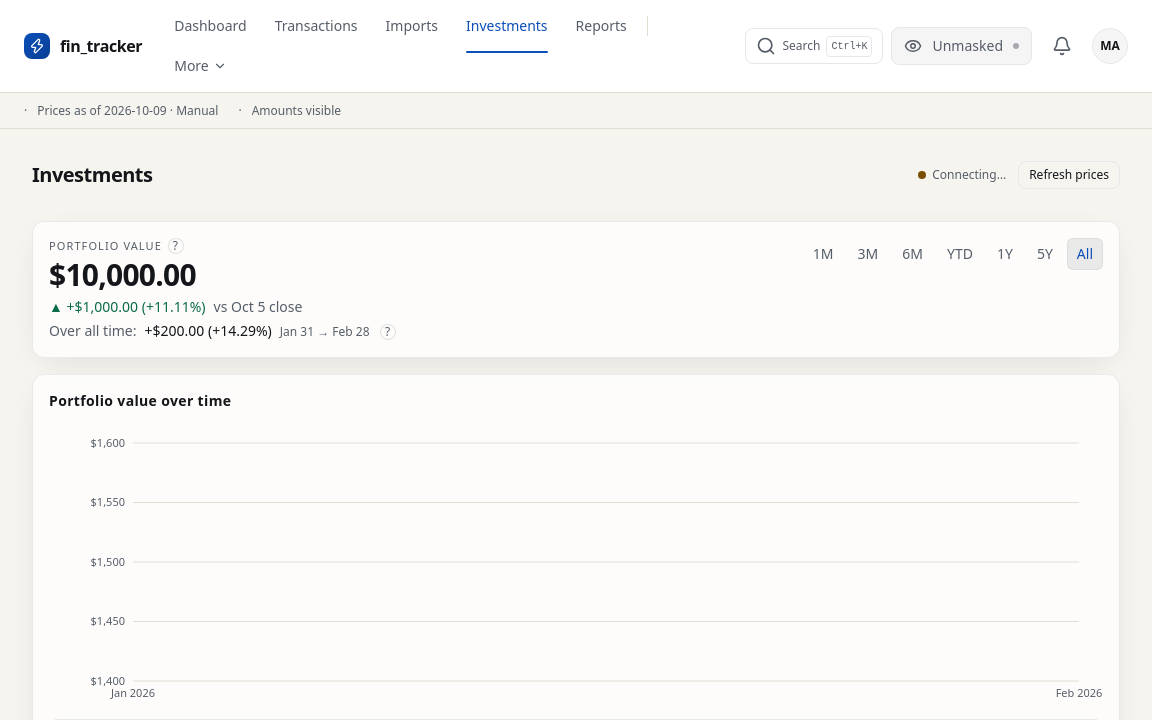
Test: M140 — one chip flip re-masks the routed tree in place › /investments: the portfolio header, day change, range stats and Σ row all flip, with no remount and no fetch
Expected: the text with test id "portfolio-value" reads "$10,000.00", [49,254,196,294]
Expected: the element with test id "portfolio-day-change" shows "+$1,000.00", [66,296,138,316]
Click the button with test id "mask-chip": coordinates (962, 46) [892,27,1032,65]
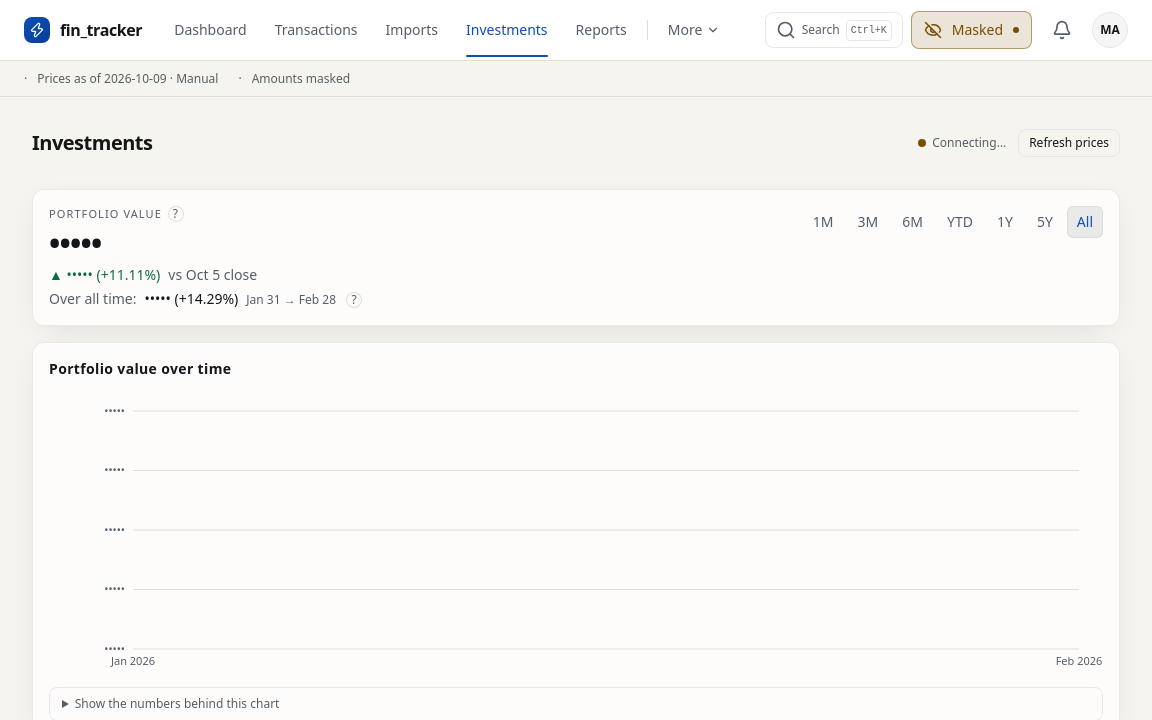
Expected: the text with test id "portfolio-value" reads "•••••", [49,222,102,262]
Expected: the element with test id "portfolio-day-change" shows "•••••", [66,264,93,284]
…and back, still with no fetch.
Click the button with test id "mask-chip": coordinates (971, 30) [911,11,1032,49]
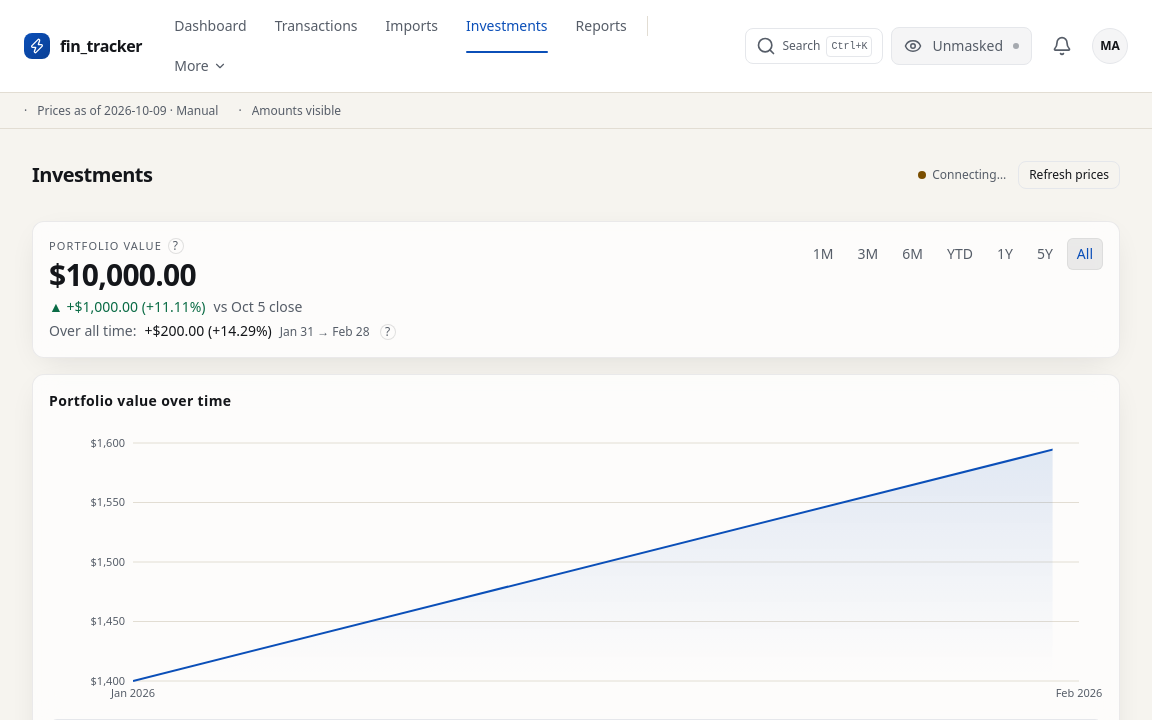
Expected: the text with test id "portfolio-value" reads "$10,000.00", [49,254,196,294]
